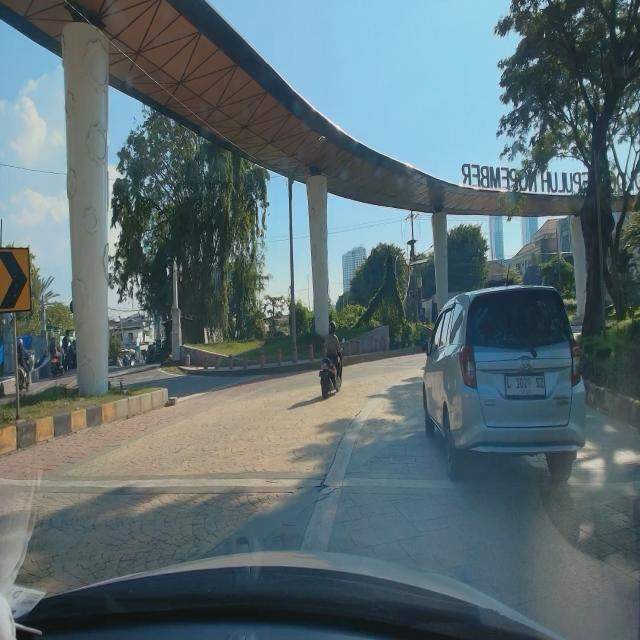car: (417, 282, 589, 482)
license-plate: (503, 373, 547, 402)
